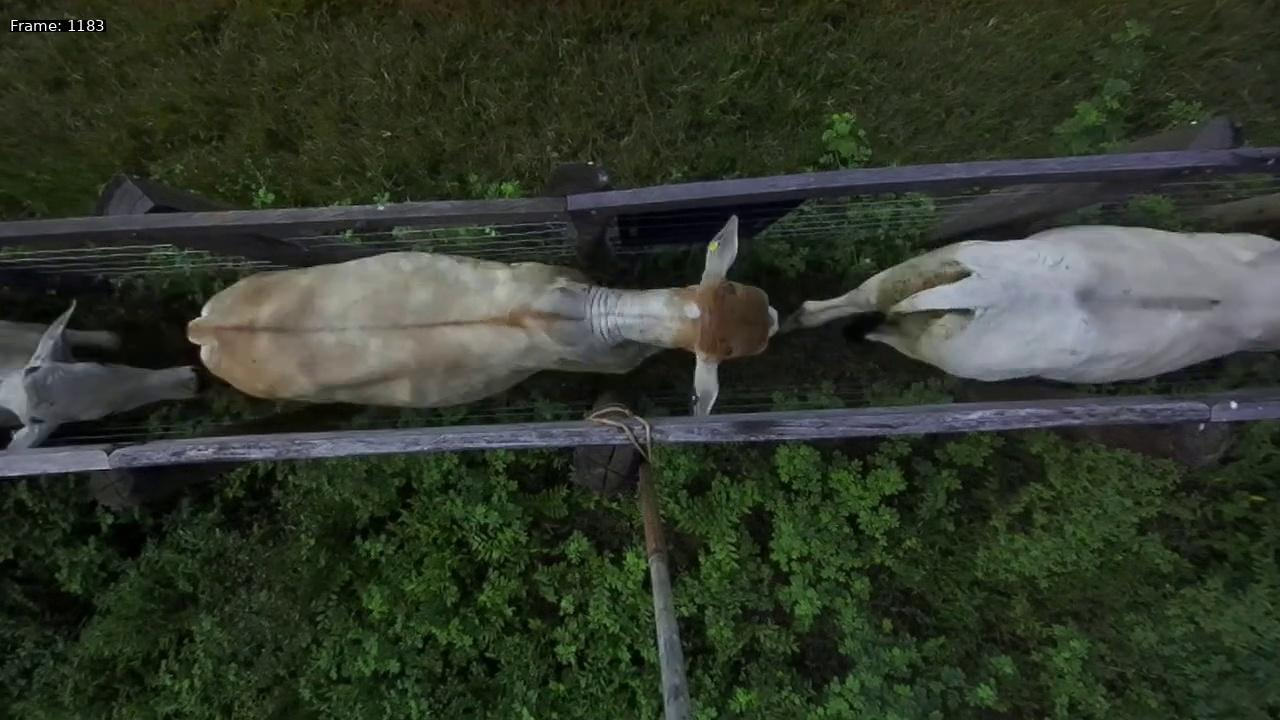cattle: (164, 202, 795, 429)
